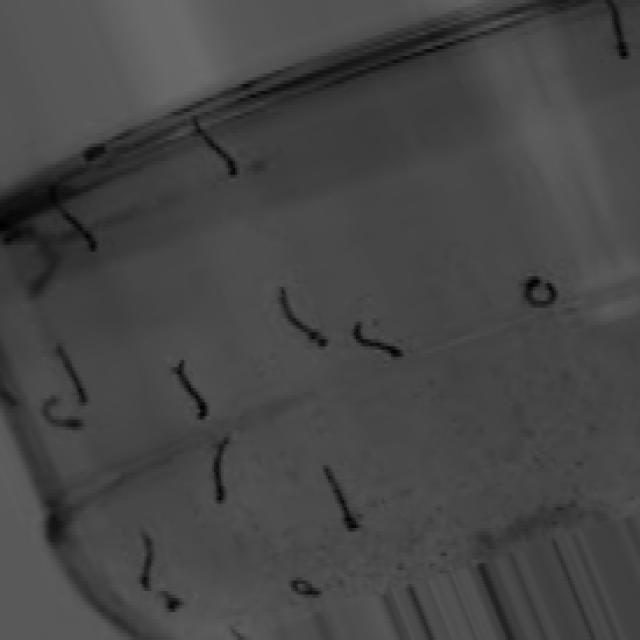larvas: (0, 224, 61, 287), (279, 286, 328, 350), (194, 121, 238, 180), (54, 193, 96, 250), (325, 463, 358, 531), (58, 341, 90, 405), (600, 0, 630, 66), (173, 363, 206, 421), (356, 323, 406, 360), (138, 528, 160, 593), (212, 434, 232, 504), (524, 272, 558, 313), (44, 396, 82, 430), (290, 576, 325, 596), (158, 586, 183, 611)
